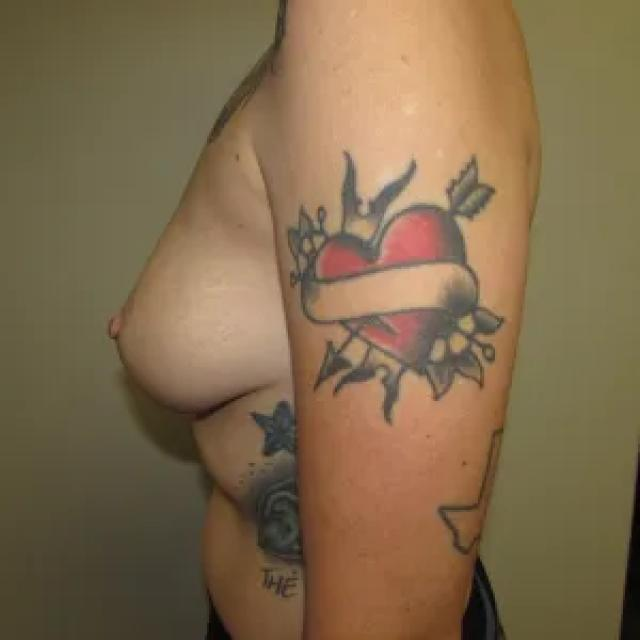Seno ileso: (98, 121, 298, 441)
